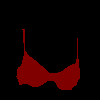reggiseno: (16, 28, 80, 90)
